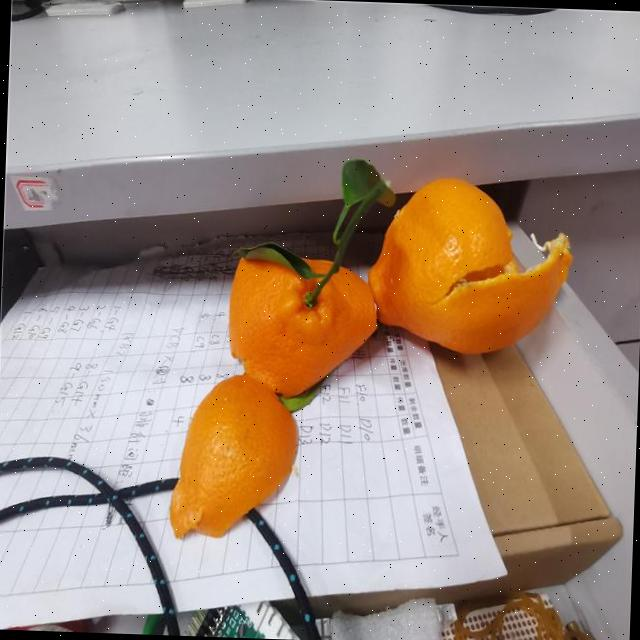orange-peel: (365, 172, 575, 358), (166, 370, 300, 542), (224, 252, 380, 399)
